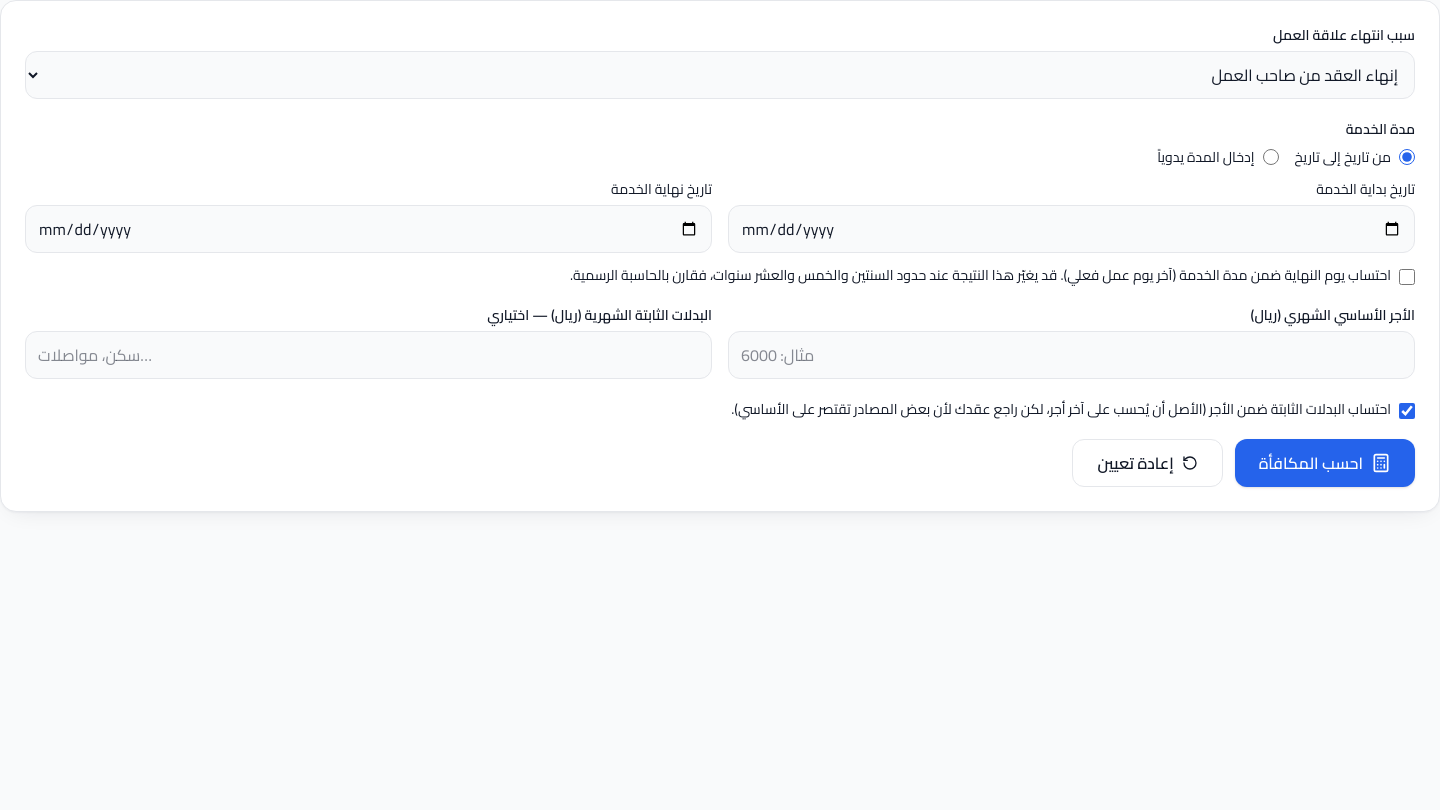
it: EosCalculator — accessible, field-level errors › marks only the offending fields invalid, links each message and moves focus to the first one
Click the button "احسب المكافأة" at (1325, 463), box [1235, 439, 1415, 487]
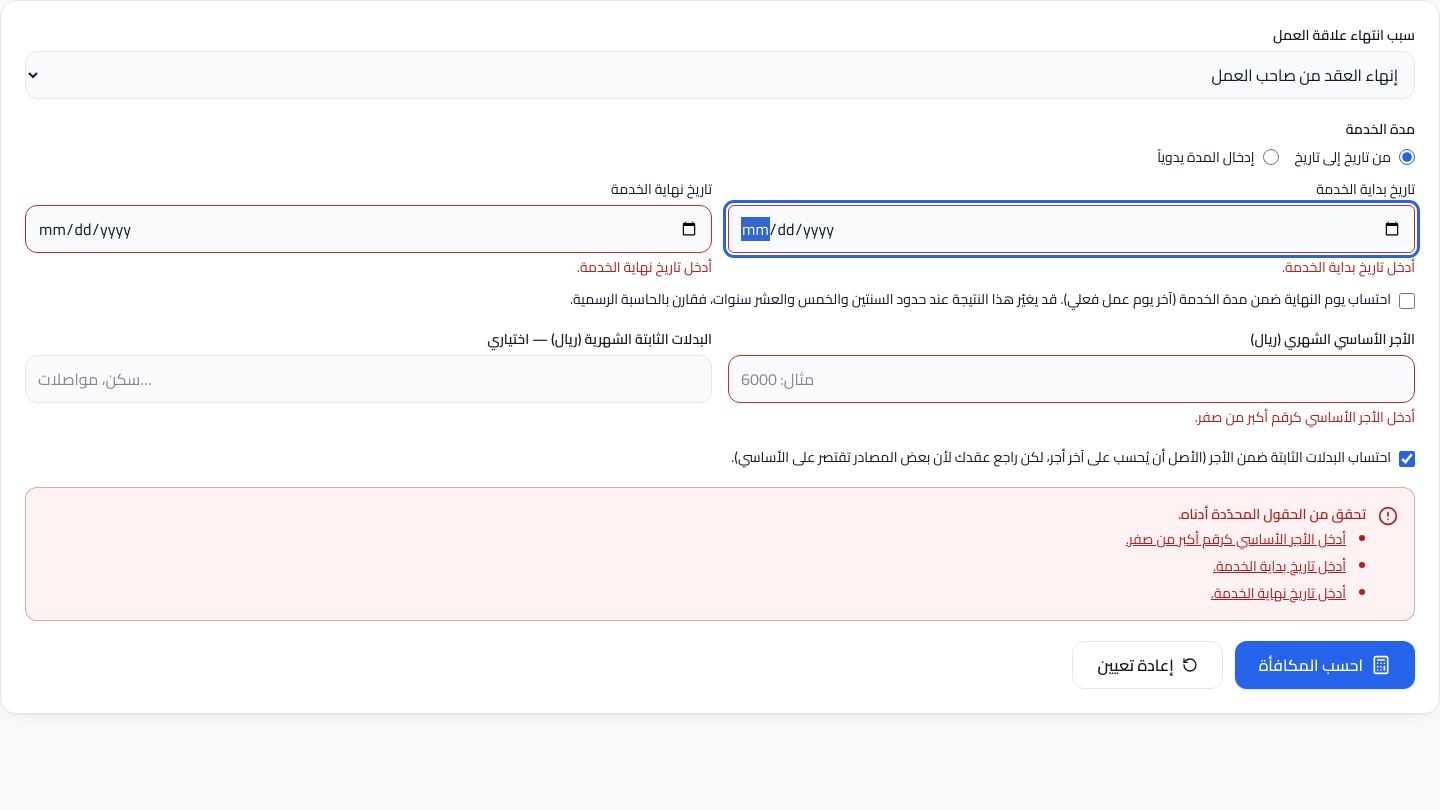
Check: the message shows "تحقق من الحقول المحدّدة أدناه.", box [1178, 501, 1366, 527]
